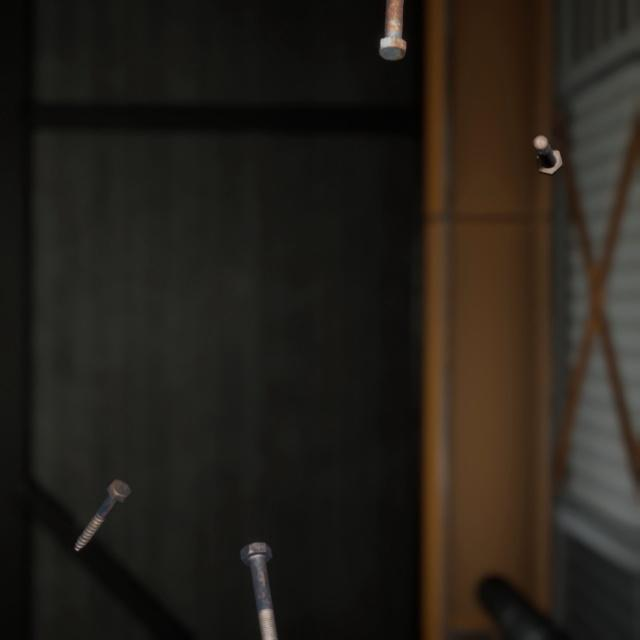bolt: (235, 514, 284, 635), (69, 453, 135, 533), (374, 0, 411, 59), (528, 117, 567, 167)
